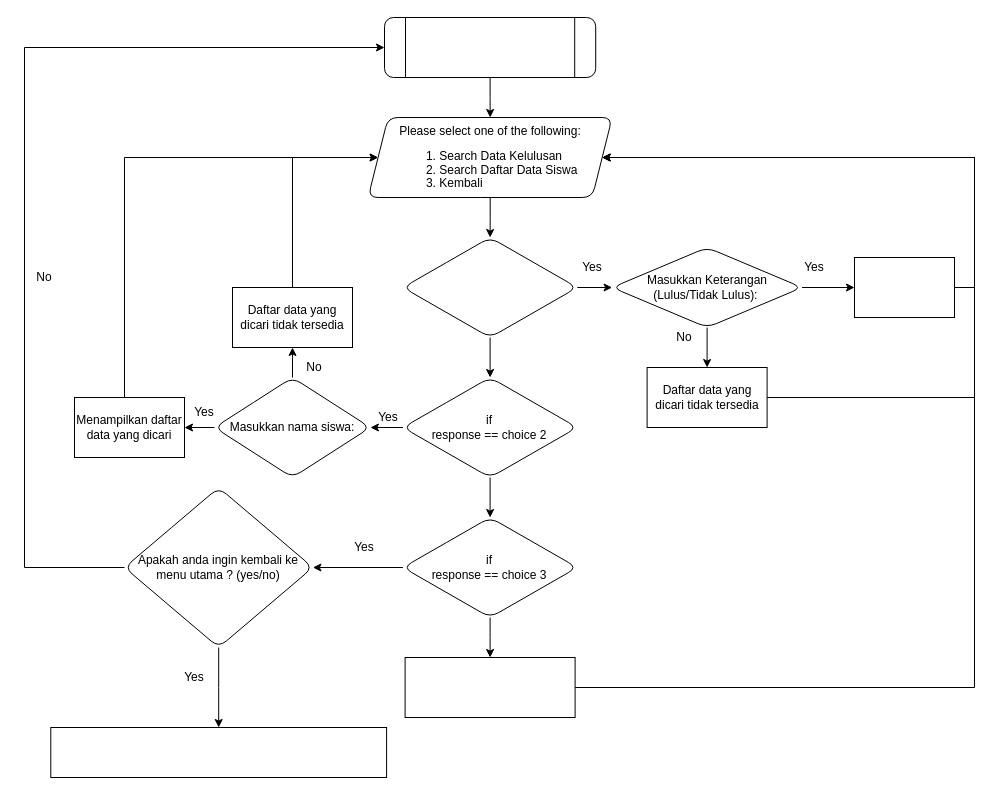
The diagram is 1000 pixels wide and 795 high, and some of its shapes have lost their labels. The box of each missing label's shape, as (x1, y1, x2, y2) in pixels:
"response" is not valid choice: (404, 656, 575, 718)
Daftar data yang dicari: (854, 256, 954, 318)
if response == choice 1: (402, 236, 577, 338)
Report Data Kelulusan di SMP Maju Jaya (Main): (50, 726, 387, 778)
Search Daftar Data Nilai Siswa (CariData): (384, 16, 596, 78)
